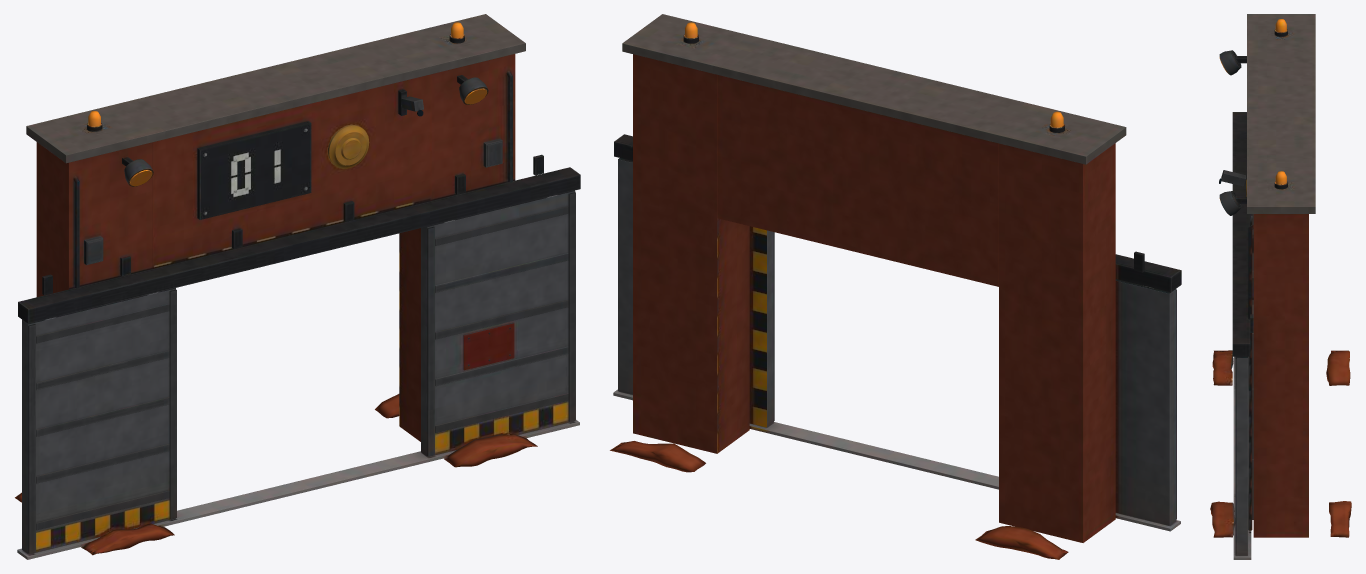
File: south_gate.glb
3 renders of one model, left to right at view 1: azimuth 30°, elevation 25°; view 2: azimuth 150°, elevation 25°; view 3: azimuth 270°, elevation 25°, orthographic. The views are drawn at different scales.
Parts seen in each view (by area): view 1: south_gate; view 2: south_gate; view 3: south_gate.
Boxes of the visible parts, <box> form: south_gate: <box>15,14,580,559</box>; south_gate: <box>610,14,1181,559</box>; south_gate: <box>1210,14,1351,559</box>.
Size of the model in its own units: 9.9 by 7 by 2.55.
2 materials, 2 textured.
